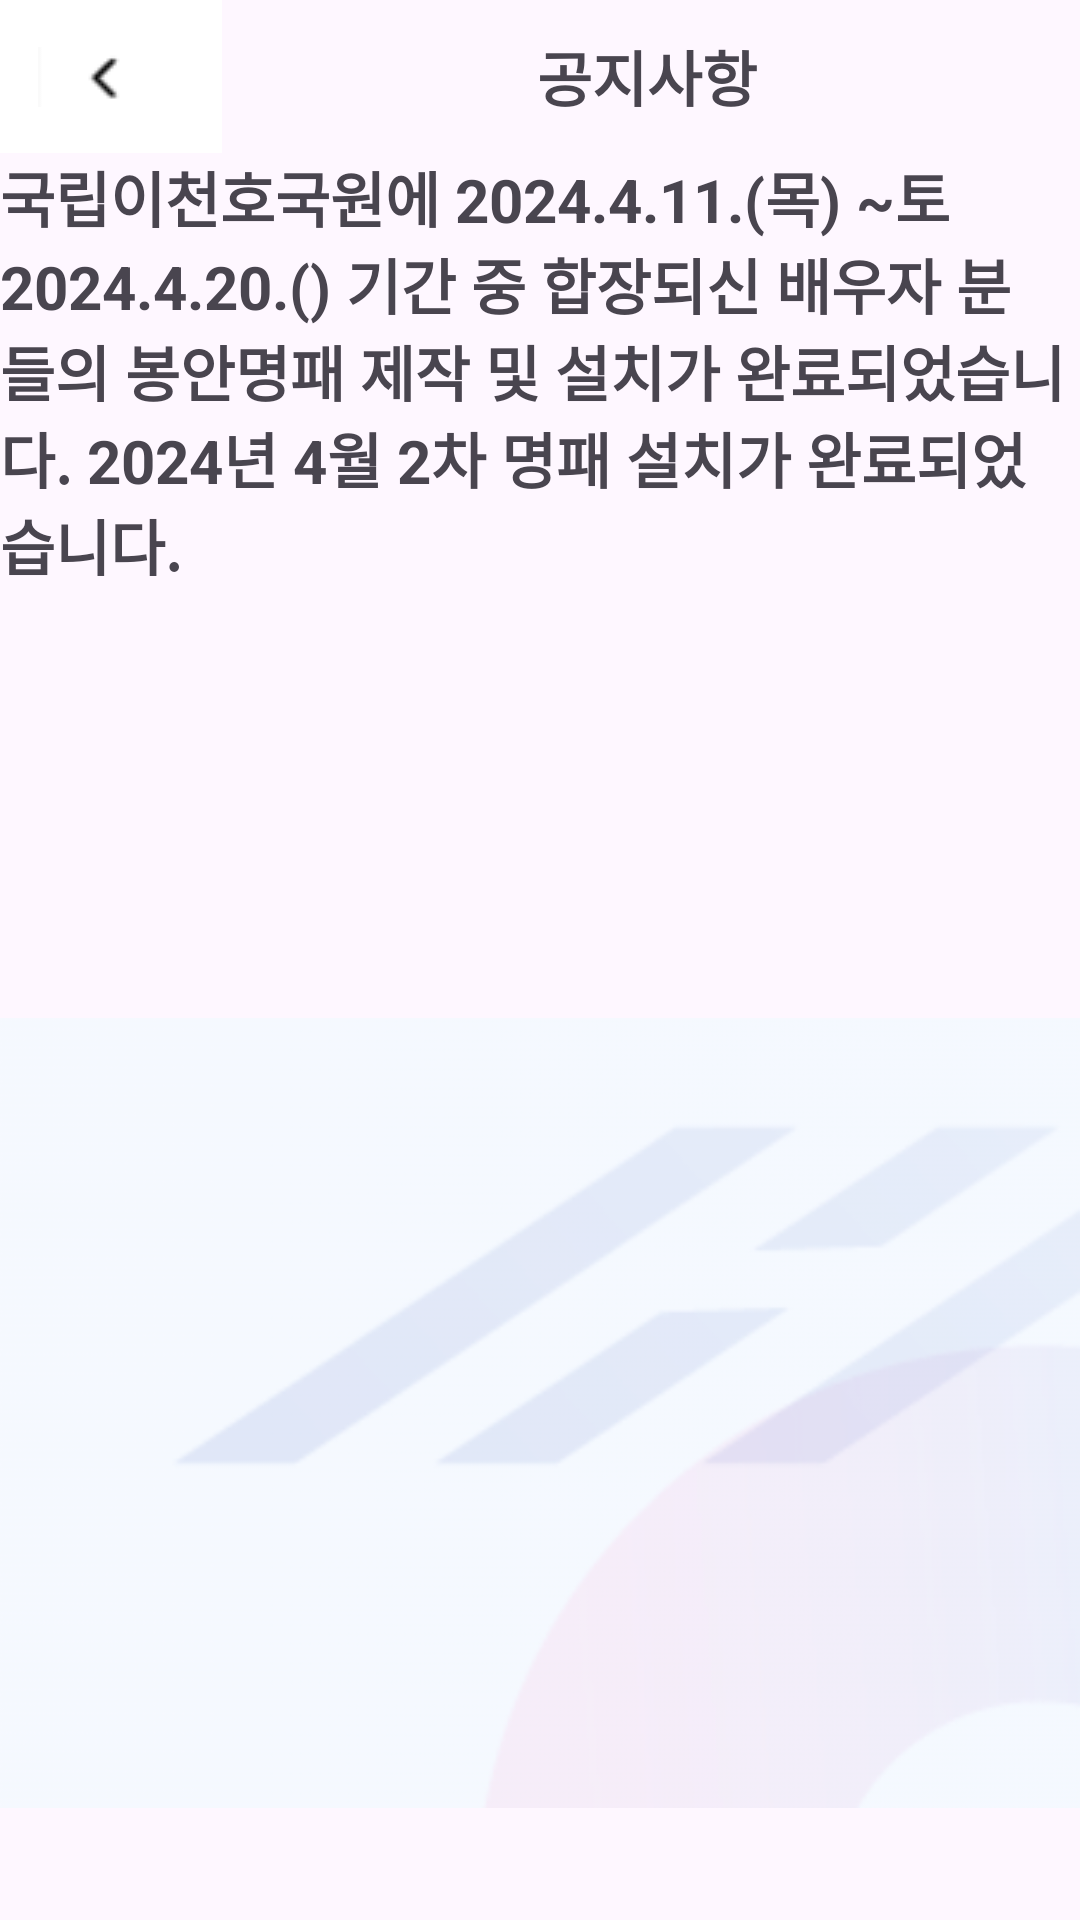

Screen size 1080 x 1920. Icon name, then its box in pixels as bbox=(x1, y1, x2, y2):
back: bbox=(91, 58, 118, 99)
